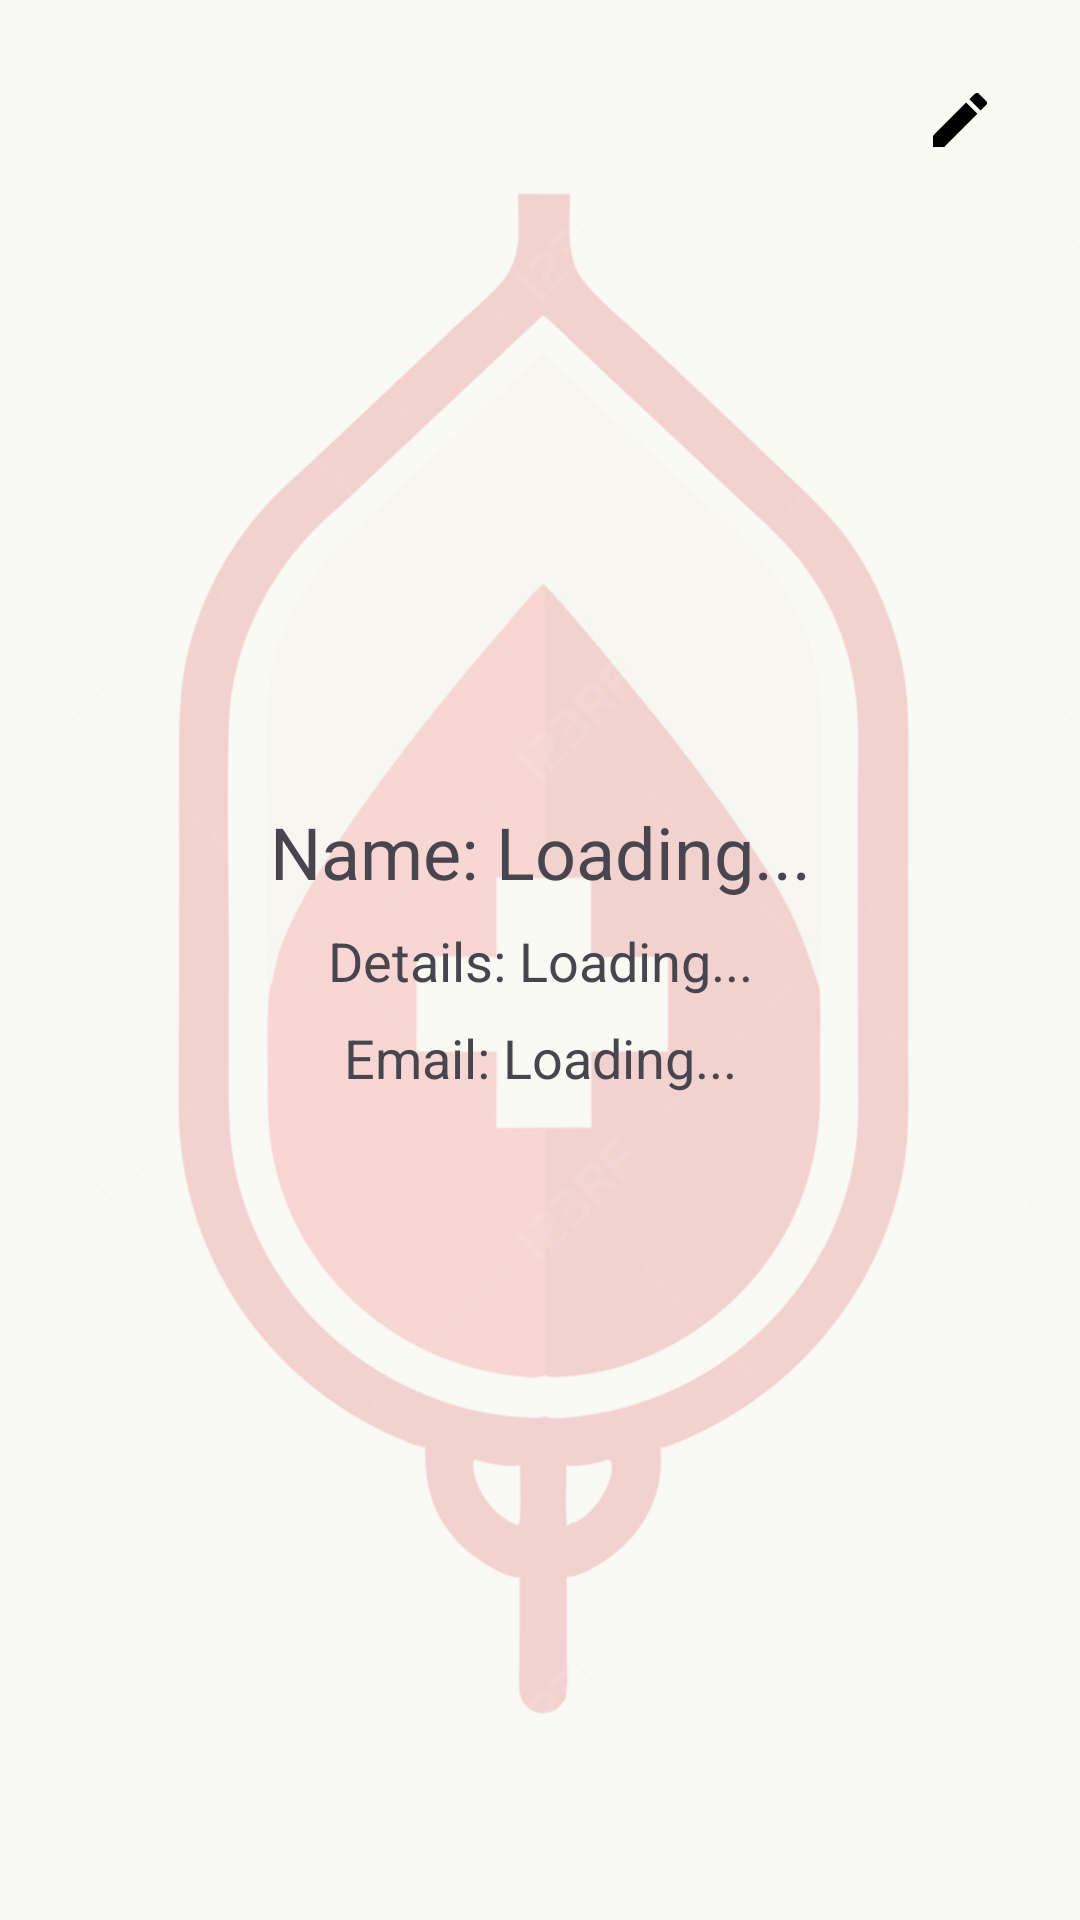

Where icons sit on this 1080x1920 app screen, as (x1=x1, y1=y1, x2=x2, y2=y2):
edit: (x1=933, y1=93, x2=987, y2=147)
